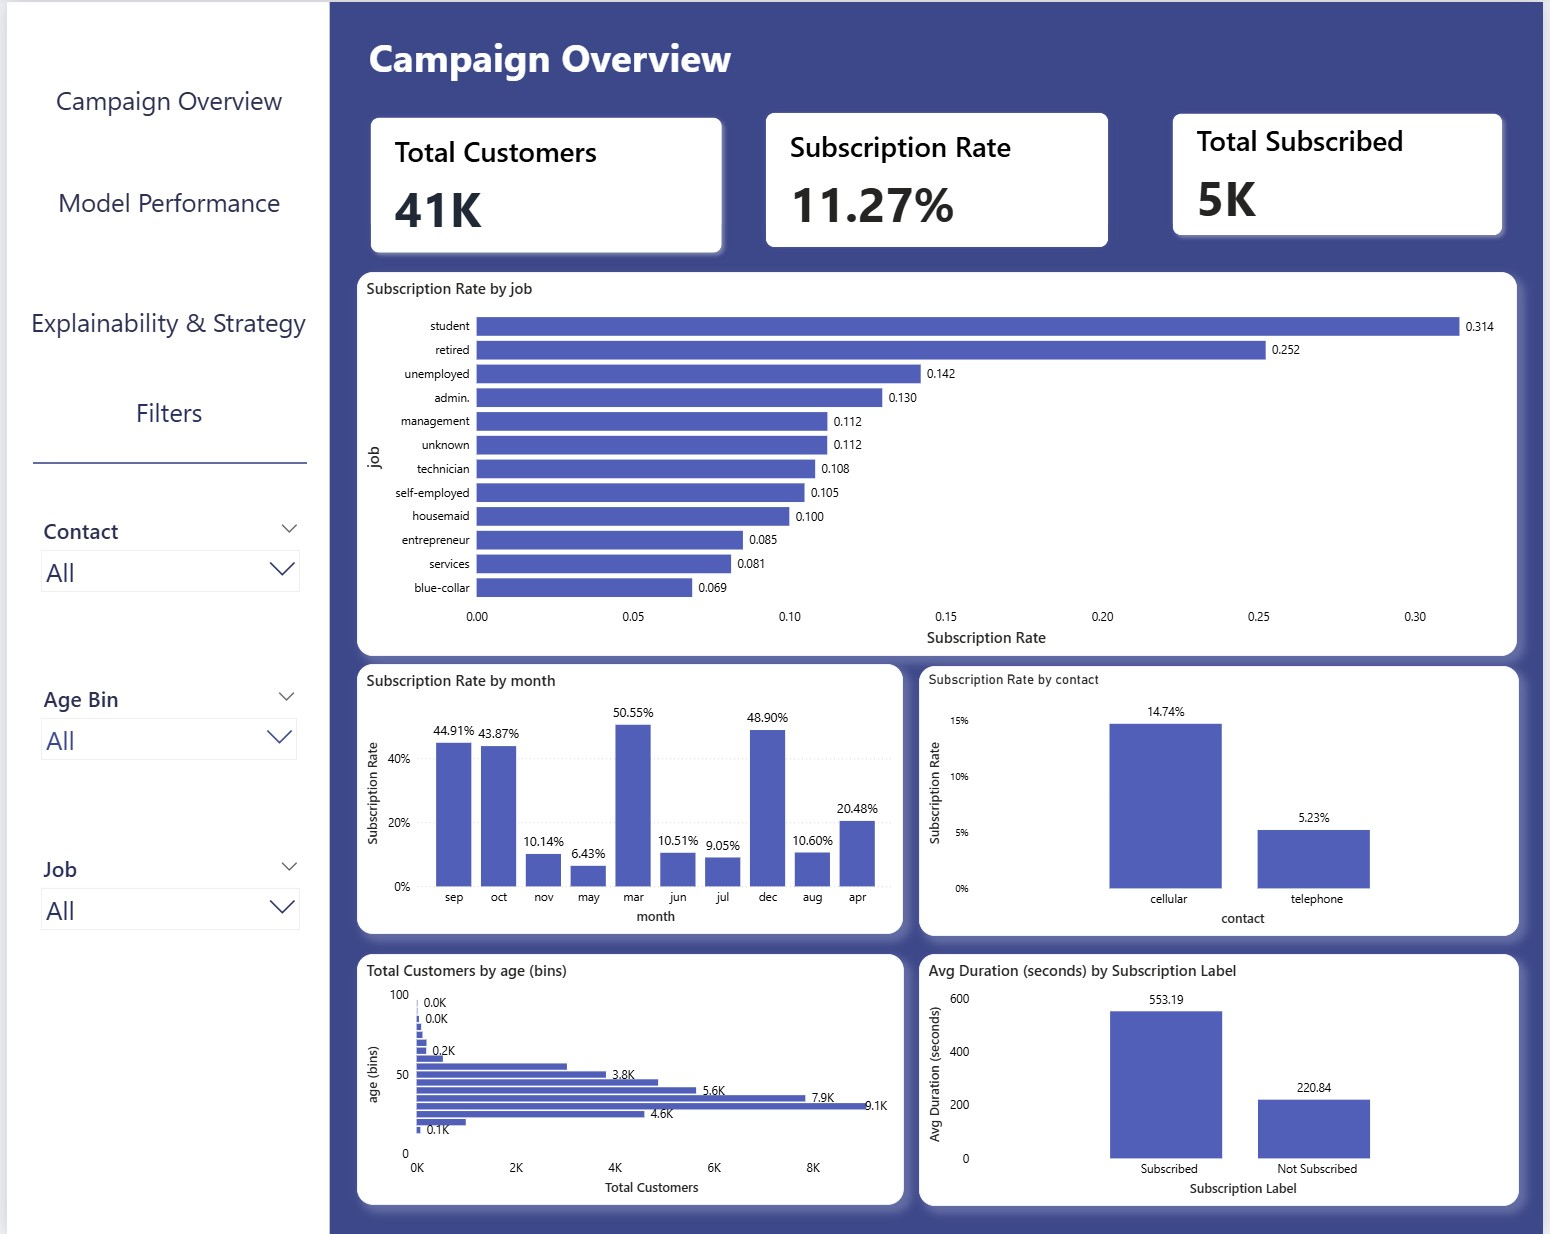

The page's visual inventory and layout, read from the dashboard file:
{"tool":"powerbi","page":{"name":"Page 1","canvas":[1920,1540],"ordinal":0},"visuals":[{"type":"shape","box":[0,0,403.3,1770],"z":0,"group":"g1"},{"type":"cardVisual","fields":{"Data":["bank_marketing_bi_raw.Total Customers"]},"box":[436.7,126.7,473.3,203.3],"z":0},{"type":"cardVisual","fields":{"Data":["bank_marketing_bi_raw.Total Subscribed"]},"box":[1440,123.3,446.7,186.7],"z":1000},{"type":"cardVisual","fields":{"Data":["bank_marketing_bi_raw.Subscription Rate"]},"box":[933.3,123.3,460,200],"z":2000},{"type":"clusteredBarChart","fields":{"Category":["bank_marketing_bi_raw.job"],"Y":["bank_marketing_bi_raw.Subscription Rate"]},"box":[436.7,336.7,1450,480],"z":3000},{"type":"clusteredColumnChart","fields":{"Y":["bank_marketing_bi_raw.Subscription Rate"],"Category":["bank_marketing_bi_raw.contact"]},"box":[1140,830,750,337.5],"z":4000},{"type":"clusteredColumnChart","fields":{"Category":["bank_marketing_bi_raw.month"],"Y":["bank_marketing_bi_raw.Subscription Rate"]},"box":[437.5,827.5,682.5,337.5],"z":5000},{"type":"clusteredBarChart","fields":{"Category":["bank_marketing_bi_raw.age (bins)"],"Y":["bank_marketing_bi_raw.Total Customers"]},"box":[436.7,1190,683.3,313.3],"z":6000},{"type":"clusteredColumnChart","fields":{"Y":["bank_marketing_bi_raw.Avg Duration (seconds)"],"Category":["bank_marketing_bi_raw.Subscription Label"]},"box":[1140,1190,750,315],"z":7000},{"type":"textbox","box":[446.7,30,850,96.7],"z":8000},{"type":"group","id":"g1","title":"Group 1","box":[0,0,403.3,1770],"z":9000},{"type":"slicer","fields":{"Values":["bank_marketing_bi_raw.contact"]},"box":[33.3,636.7,343.3,143.3],"z":9000,"group":"g1"},{"type":"slicer","fields":{"Values":["bank_marketing_bi_raw.job"]},"box":[33.3,1060,343.3,213.3],"z":10000,"group":"g1"},{"type":"slicer","fields":{"Values":["bank_marketing_bi_raw.Age Bin"]},"box":[33.3,846.7,340,153.3],"z":11000,"group":"g1"},{"type":"textbox","box":[42.5,95,320,57.5],"z":12000,"group":"g1"},{"type":"textbox","box":[53.3,223.3,300,60],"z":13000,"group":"g1"},{"type":"textbox","box":[10,373.3,383.3,70],"z":14000,"group":"g1"},{"type":"textbox","box":[56.7,520,300,56.7],"z":15000,"group":"g1"},{"type":"shape","box":[32.5,552.5,342.5,47.5],"z":16000,"group":"g1"}]}

Visuals, with their boxes in screenshot pixels (x1, y1, x2, y2):
shape: (8,8,327,1233)
cardVisual - bank_marketing_bi_raw.Total Customers: (353,108,728,269)
cardVisual - bank_marketing_bi_raw.Total Subscribed: (1147,106,1500,253)
cardVisual - bank_marketing_bi_raw.Subscription Rate: (746,106,1110,264)
clusteredBarChart - bank_marketing_bi_raw.job x bank_marketing_bi_raw.Subscription Rate: (353,274,1500,654)
clusteredColumnChart - bank_marketing_bi_raw.Subscription Rate x bank_marketing_bi_raw.contact: (910,665,1503,932)
clusteredColumnChart - bank_marketing_bi_raw.month x bank_marketing_bi_raw.Subscription Rate: (354,663,894,930)
clusteredBarChart - bank_marketing_bi_raw.age (bins) x bank_marketing_bi_raw.Total Customers: (353,949,894,1197)
clusteredColumnChart - bank_marketing_bi_raw.Avg Duration (seconds) x bank_marketing_bi_raw.Subscription Label: (910,949,1503,1198)
textbox: (361,32,1034,108)
"Group 1" group: (8,8,327,1233)
slicer - bank_marketing_bi_raw.contact: (34,512,306,625)
slicer - bank_marketing_bi_raw.job: (34,846,306,1015)
slicer - bank_marketing_bi_raw.Age Bin: (34,678,303,799)
textbox: (42,83,295,129)
textbox: (50,185,288,232)
textbox: (16,303,319,359)
textbox: (53,419,290,464)
shape: (34,445,305,483)
